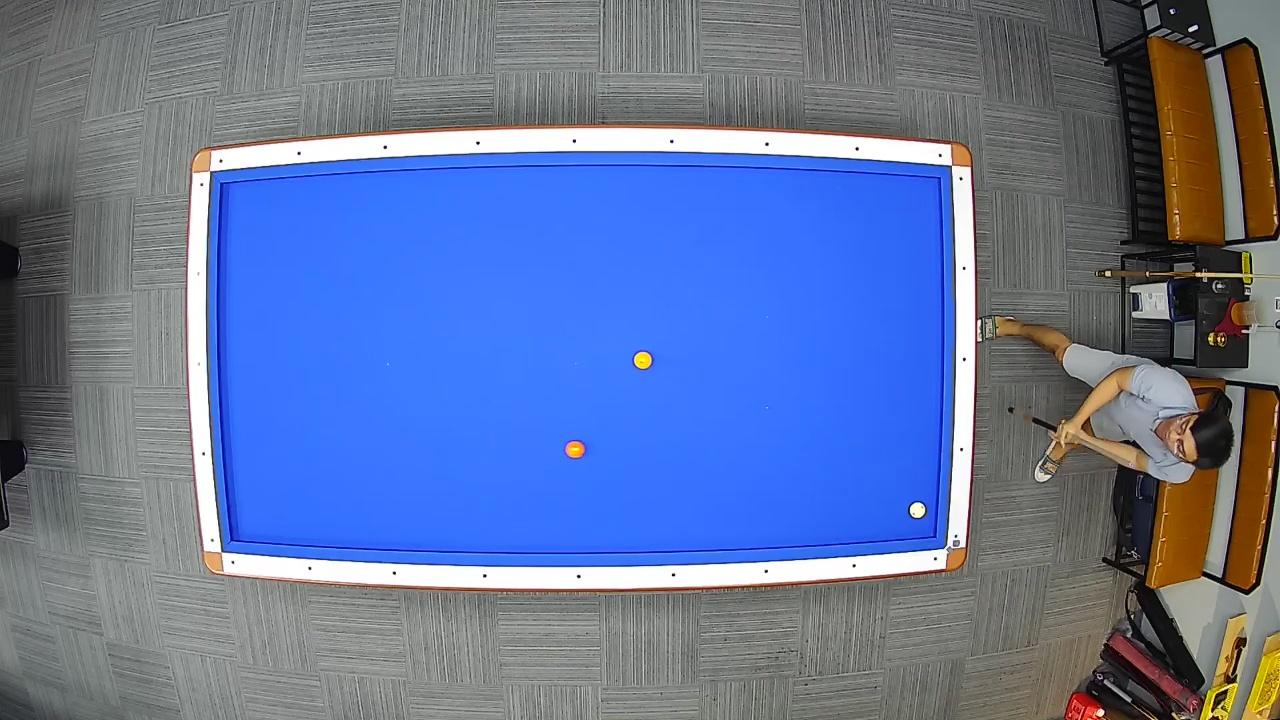Orange: (564, 439, 588, 460)
White: (908, 500, 926, 520)
Yellow: (633, 350, 654, 371)
